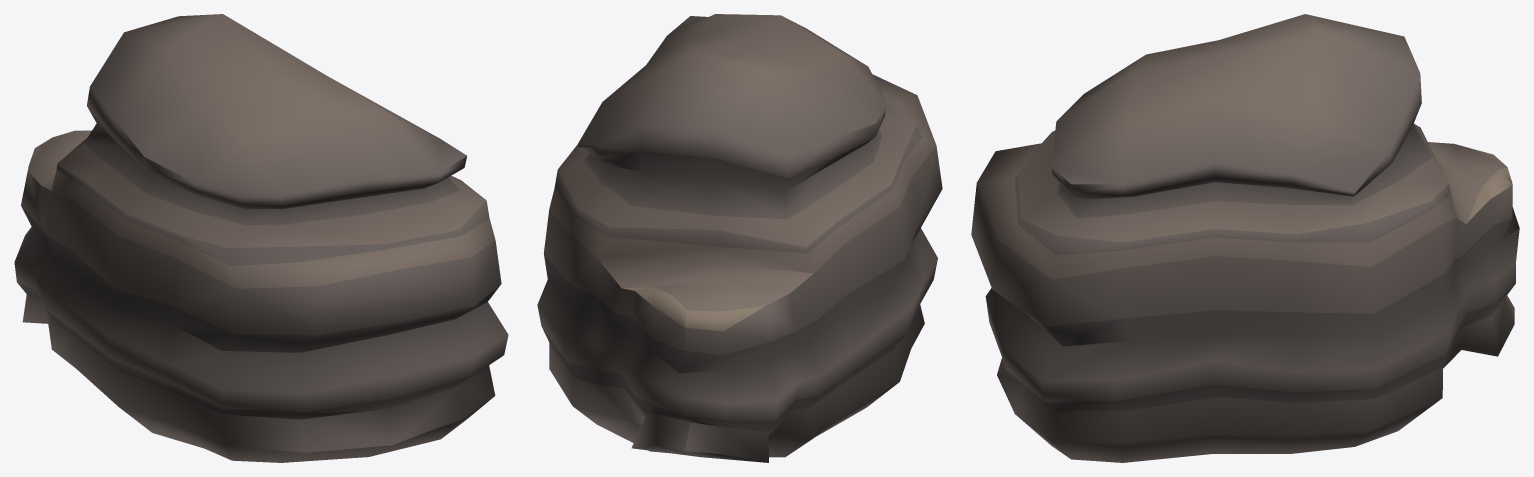
Rendered from geology-rocks-layeredrock_v5.glb.
The picture shows the model from 3 angles, left to right: view 1: azimuth 30°, elevation 25°; view 2: azimuth 150°, elevation 25°; view 3: azimuth 270°, elevation 25°; orthographic projection. The views are drawn at different scales.
Parts seen in each view (by area): view 1: LayeredRock_v5; view 2: LayeredRock_v5; view 3: LayeredRock_v5.
Boxes of the visible parts, bbox=[...] form: LayeredRock_v5: bbox=[14, 14, 508, 462]; LayeredRock_v5: bbox=[537, 14, 942, 462]; LayeredRock_v5: bbox=[971, 14, 1519, 462].
Size of the model in its own units: 7.86 by 8.52 by 11.07.
